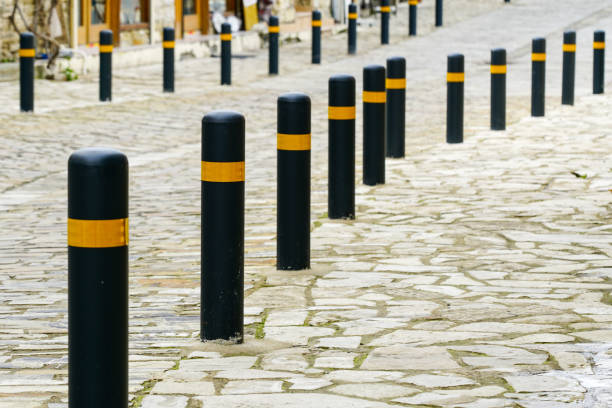bollard: (58, 142, 134, 405), (192, 112, 250, 347), (272, 88, 314, 273), (325, 71, 357, 222), (357, 61, 387, 194), (441, 53, 468, 145), (486, 42, 510, 131), (93, 21, 118, 104), (13, 31, 38, 113), (160, 25, 181, 97)
